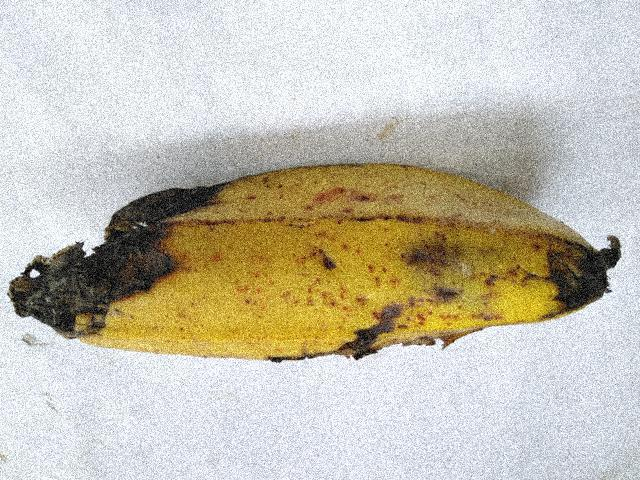rotten: (278, 188, 639, 408), (0, 138, 250, 395)
